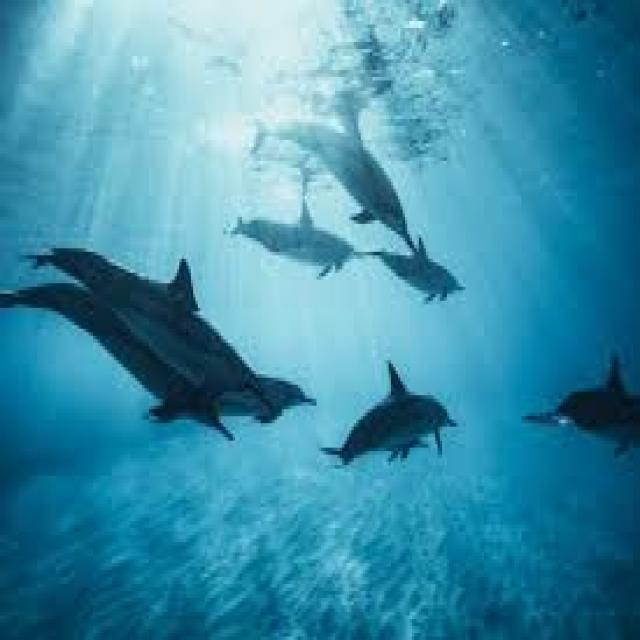dolphin: (46, 213, 288, 420), (330, 332, 519, 532), (268, 84, 430, 241)
